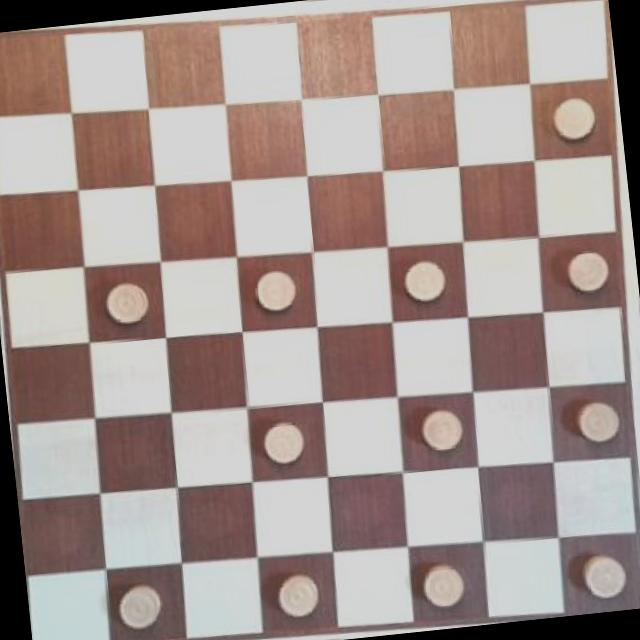BOARD: (0, 0, 640, 640)
white: (546, 85, 602, 151), (566, 392, 625, 452), (413, 402, 472, 460), (558, 245, 614, 303), (416, 556, 471, 614), (114, 582, 172, 635), (574, 550, 632, 602), (398, 256, 450, 310), (257, 413, 308, 468), (100, 278, 152, 328), (250, 265, 300, 316), (273, 570, 323, 620)
